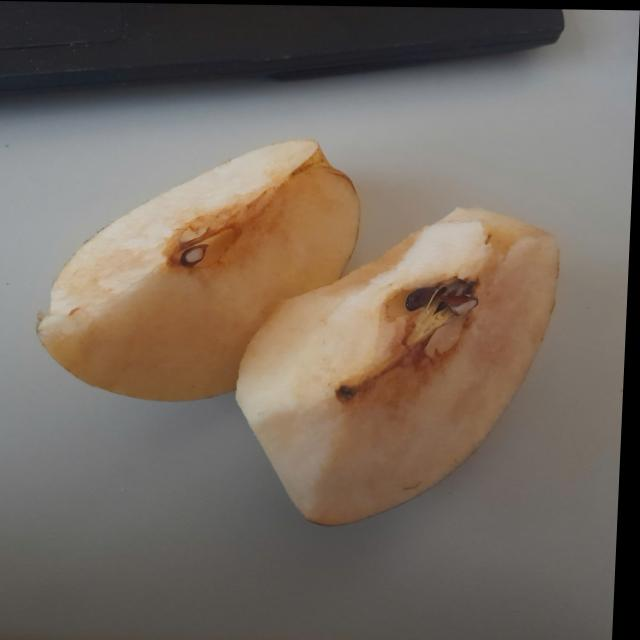Le: (217, 189, 592, 554), (19, 121, 374, 411)
